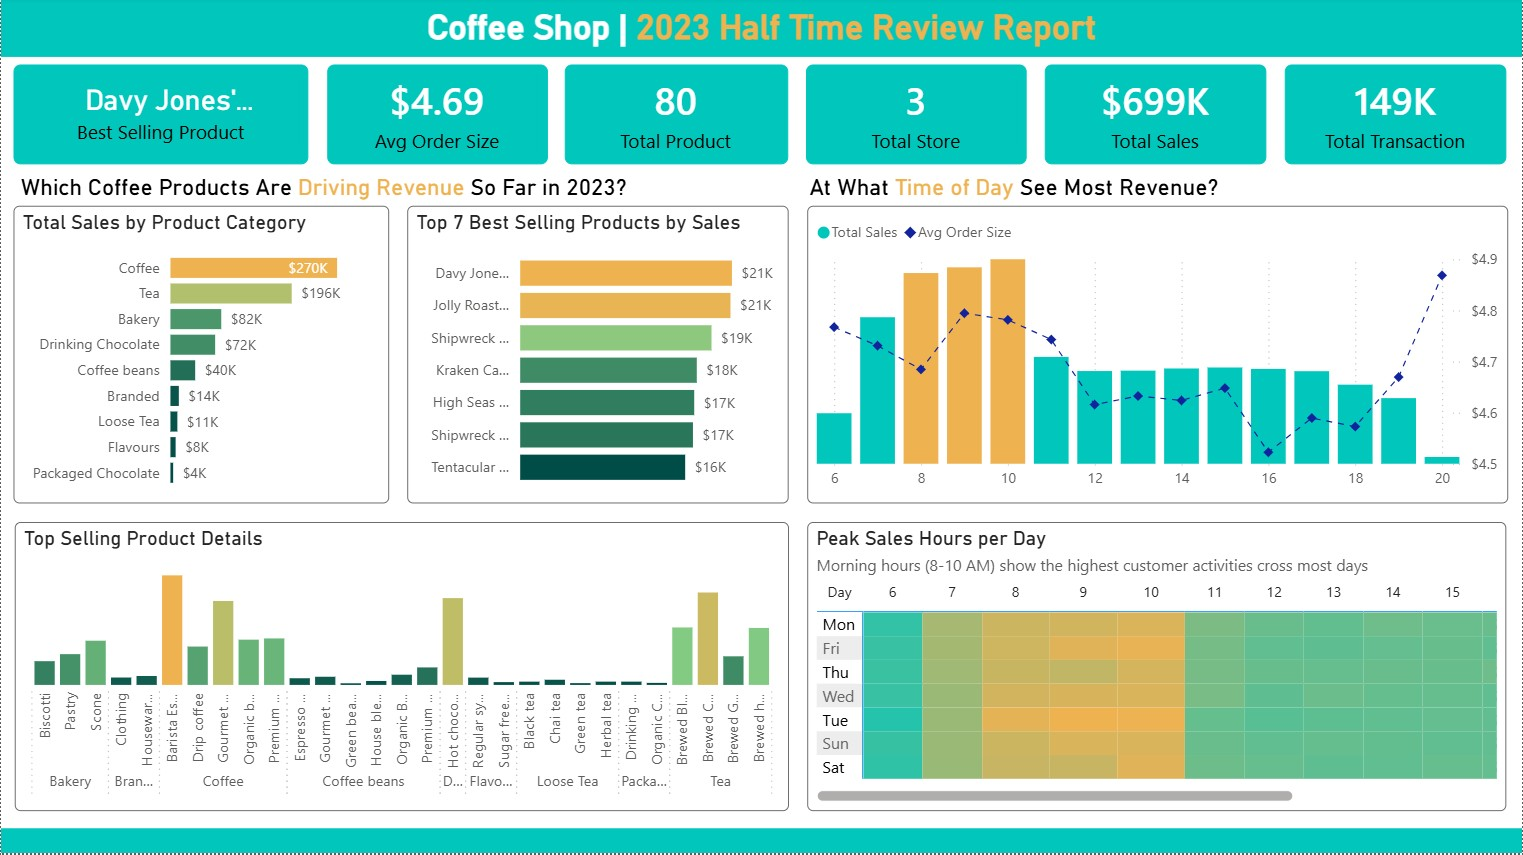

This screenshot's page, from the dashboard's own definition file:
{"tool":"powerbi","page":{"name":"Page 1","canvas":[1280,720],"ordinal":0},"visuals":[{"type":"shape","box":[0,0,1280.3,50.8],"z":0},{"type":"textbox","box":[0,2.7,1280,45.3],"z":1000},{"type":"shape","box":[0,698.8,1280.2,20.9],"z":2000},{"type":"cardVisual","fields":{"Data":["Min(Product_Dim.product_detail)"]},"box":[10.5,56.8,248.4,83.7],"z":4000},{"type":"cardVisual","fields":{"Data":["Measure Table.Avg Order Size"]},"box":[273.9,56.8,185.2,83.7],"z":5000},{"type":"cardVisual","fields":{"Data":["Measure Table.Total Product"]},"box":[474.3,56.8,188,83.7],"z":6000},{"type":"cardVisual","fields":{"Data":["Measure Table.Total Store"]},"box":[677.4,56.8,185.2,83.7],"z":7000},{"type":"cardVisual","fields":{"Data":["Measure Table.Total Sales"]},"box":[877.7,56.8,186.6,83.7],"z":8000},{"type":"cardVisual","fields":{"Data":["Measure Table.Total Transaction"]},"box":[1079.4,56.8,186.6,83.7],"z":9000},{"type":"textbox","box":[11.1,144.1,651.2,33.7],"z":10000},{"type":"textbox","box":[675.1,144.1,590.7,43],"z":11000},{"type":"clusteredBarChart","title":"Total Sales by Product Category","fields":{"Category":["Product_Dim.product_category"],"Y":["Measure Table.Total Sales"]},"box":[10.5,175.4,316.3,250],"z":12000},{"type":"clusteredBarChart","title":"Top 7 Best Selling Products by Sales","fields":{"Category":["Product_Dim.product_detail"],"Y":["Measure Table.Total Sales"]},"box":[341.9,175.4,320.9,250],"z":13000},{"type":"lineStackedColumnComboChart","title":"Total Sales by Product Category","fields":{"Category":["Coffee_Sales_Facts.Hour"],"Y":["Measure Table.Total Sales"],"Y2":["Measure Table.Avg Order Size"]},"box":[677.9,175.4,589.5,250],"z":14000},{"type":"pivotTable","title":"Peak Sales Hours per Day","fields":{"Values":["Measure Table.Total Sales"],"Rows":["Date_Dim.First Characters"],"Columns":["Coffee_Sales_Facts.Hour"]},"box":[677.9,441.7,588.4,243],"z":15000},{"type":"clusteredColumnChart","title":"Top Selling Product Details","fields":{"Category":["Product_Dim.product_category","Product_Dim.product_type"],"Y":["Measure Table.Total Sales"]},"box":[11.6,441.7,651.2,243],"z":16000}]}

Visuals, with their boxes in screenshot pixels (x1, y1, x2, y2), scaled from the page's 1280x720 canvas onto the 1523x855 screenshot:
shape: 0,0,1522,60
textbox: 0,3,1522,57
shape: 0,830,1522,854
cardVisual - Min(Product_Dim.product_detail): 12,67,308,167
cardVisual - Measure Table.Avg Order Size: 326,67,546,167
cardVisual - Measure Table.Total Product: 564,67,788,167
cardVisual - Measure Table.Total Store: 806,67,1026,167
cardVisual - Measure Table.Total Sales: 1044,67,1266,167
cardVisual - Measure Table.Total Transaction: 1284,67,1506,167
textbox: 13,171,788,211
textbox: 803,171,1506,222
"Total Sales by Product Category" clusteredBarChart: 12,208,389,505
"Top 7 Best Selling Products by Sales" clusteredBarChart: 407,208,789,505
"Total Sales by Product Category" lineStackedColumnComboChart: 807,208,1508,505
"Peak Sales Hours per Day" pivotTable: 807,525,1507,813
"Top Selling Product Details" clusteredColumnChart: 14,525,789,813
